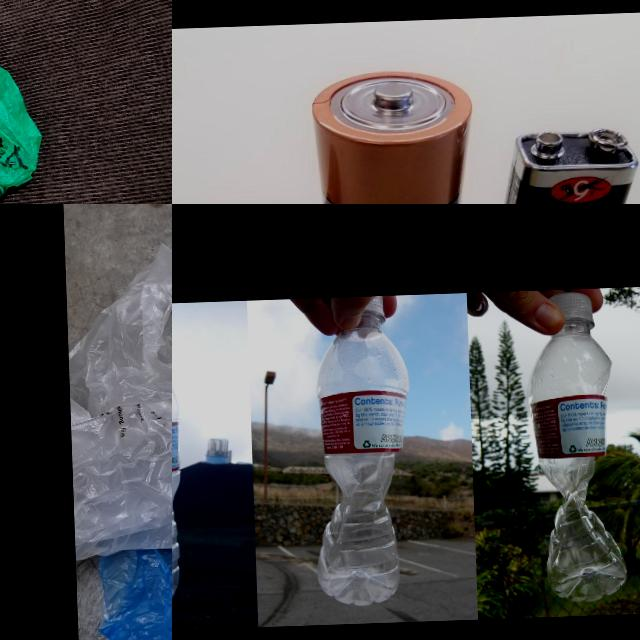bateria: (308, 66, 478, 204), (486, 125, 640, 204)
garrafa plástica: (308, 313, 420, 607), (526, 316, 628, 602)
sacola plástica: (64, 238, 172, 560), (0, 42, 79, 204)
tampa plástica: (546, 291, 592, 329), (360, 294, 386, 322)
